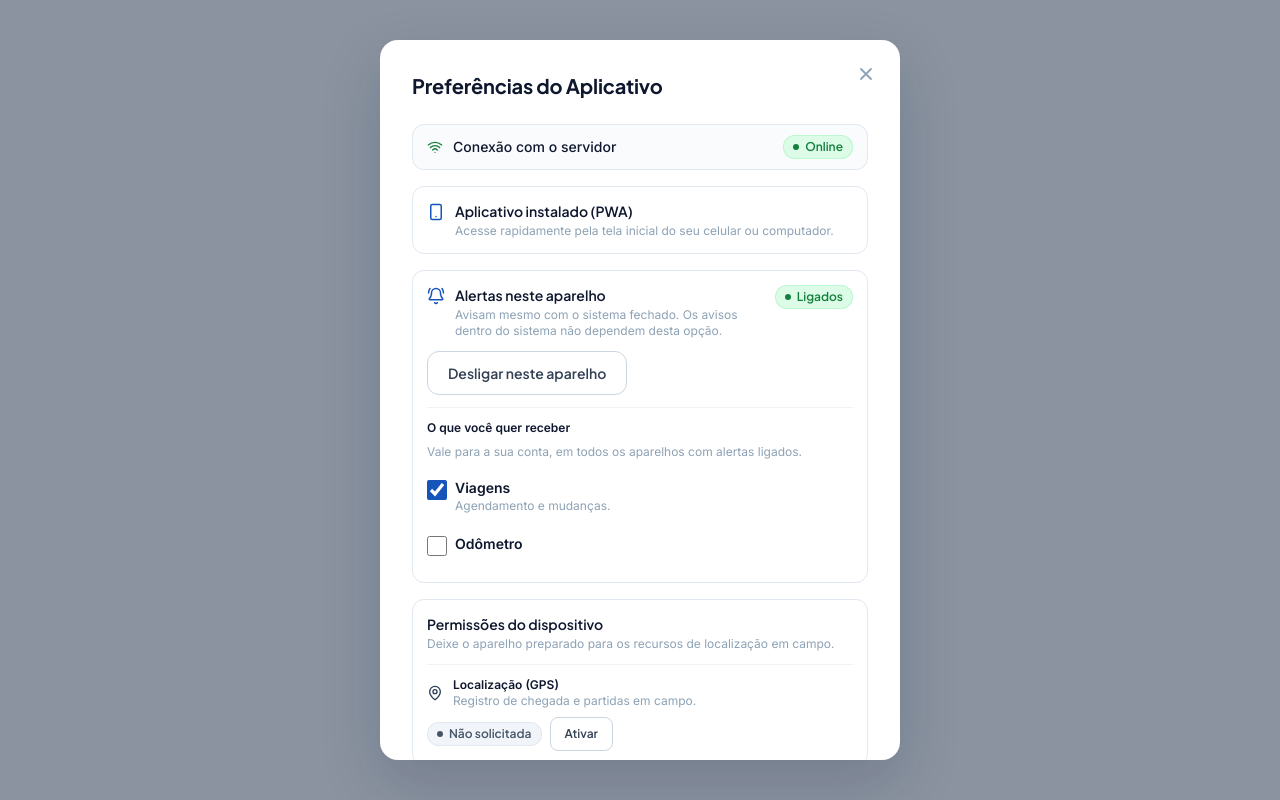
it: Ligar e desligar neste aparelho › desliga no servidor e no navegador
Step 1. Click the button "Desligar neste aparelho" → (527, 373), box [427, 351, 627, 395]
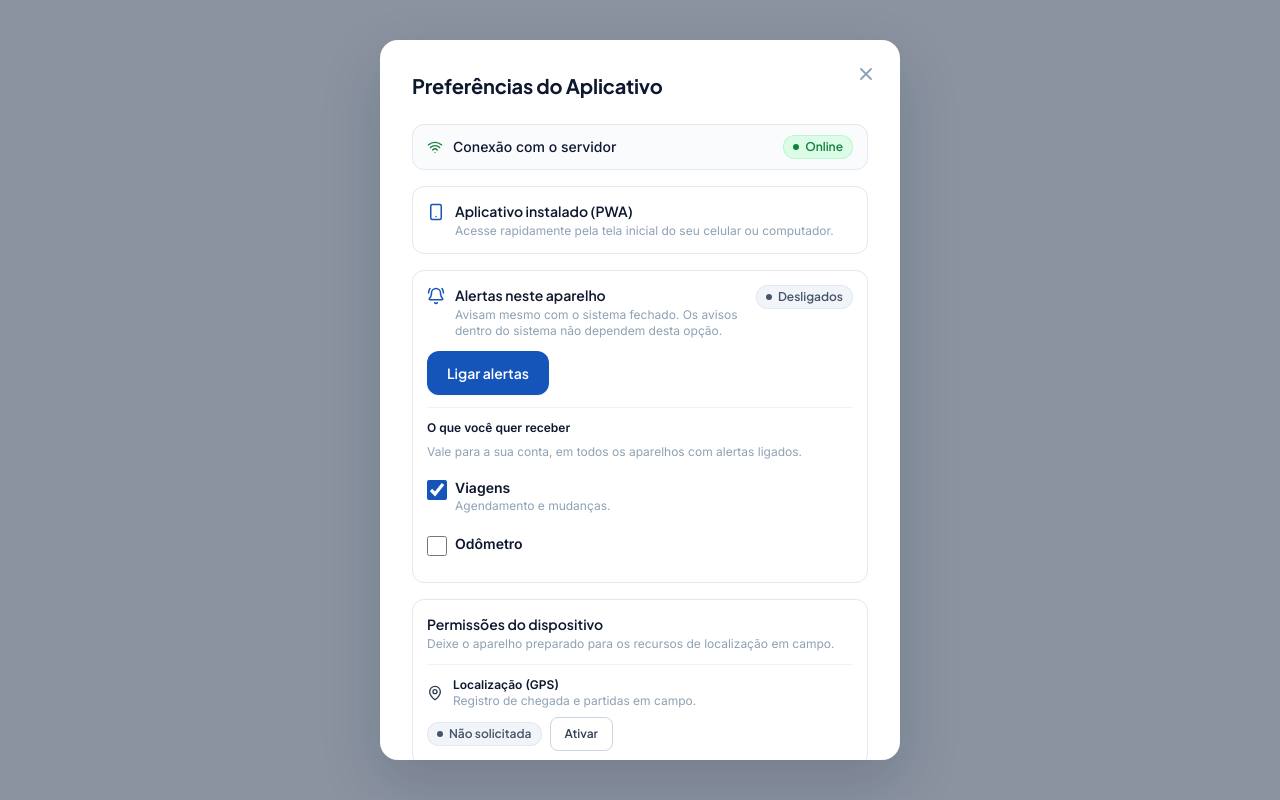
expect the button "Ligar alertas" is shown: met, box [427, 351, 549, 395]
